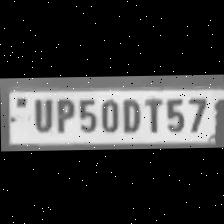0: (96, 94, 120, 132)
1: (206, 94, 222, 134)
5: (160, 93, 186, 131), (74, 95, 96, 132)
7: (184, 93, 208, 132)
D: (118, 94, 142, 132)
P: (51, 96, 75, 132)
T: (140, 94, 162, 132)
U: (27, 95, 53, 131)
